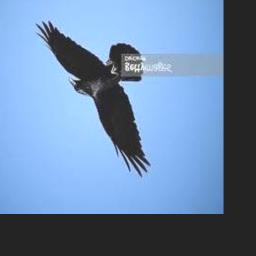Crow: (35, 20, 151, 179)
